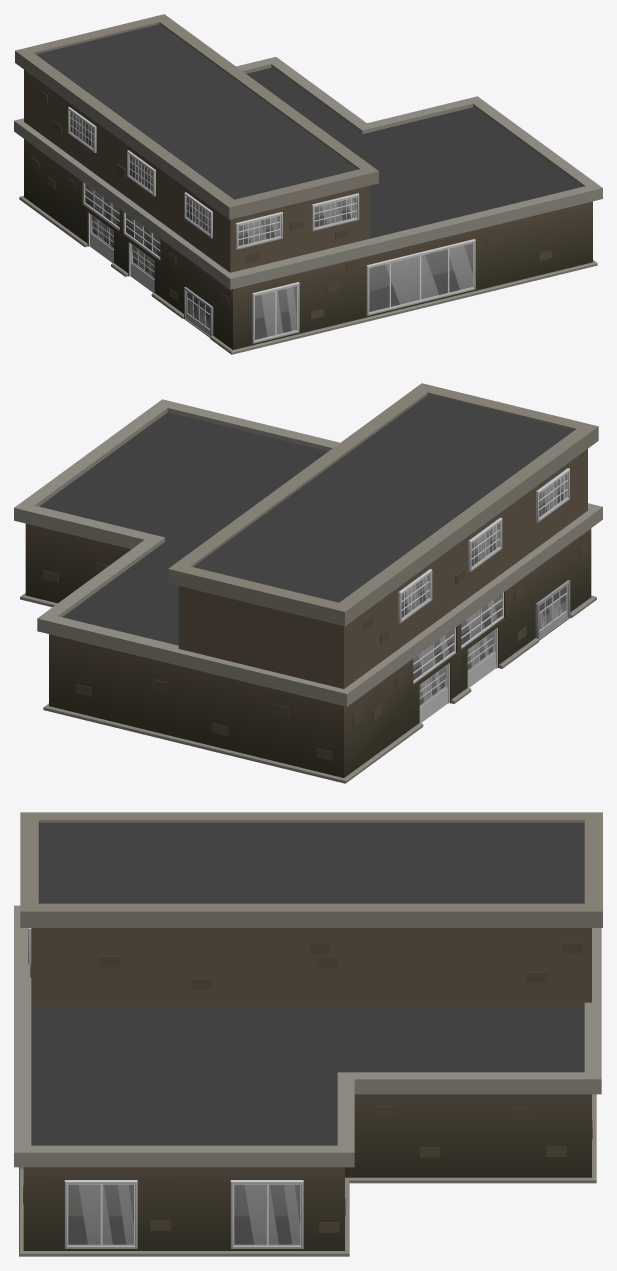
File: Building_22_1_E.fbx
3 views of the same model, one above another, from view 1: azimuth 30°, elevation 25°; view 2: azimuth 150°, elevation 25°; view 3: azimuth 270°, elevation 25° (orthographic). The views are drawn at different scales.
Parts seen in each view (by area): view 1: Building_22_1_E; view 2: Building_22_1_E; view 3: Building_22_1_E.
Part boxes in pixels (x1=…): Building_22_1_E: x1=14, y1=14, x2=602, y2=354; Building_22_1_E: x1=14, y1=383, x2=602, y2=783; Building_22_1_E: x1=14, y1=812, x2=602, y2=1256.
Bounding box in the file's own units: 3108 × 1175 × 3132.
